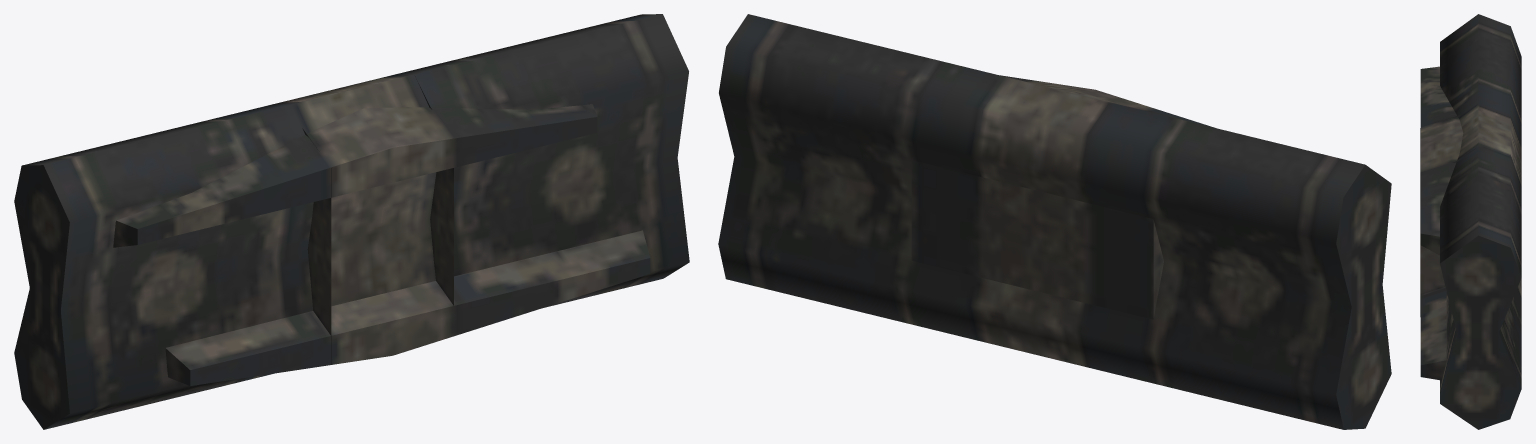
The picture shows the model from 3 angles, left to right: view 1: azimuth 30°, elevation 25°; view 2: azimuth 150°, elevation 25°; view 3: azimuth 270°, elevation 25°; orthographic projection. The views are drawn at different scales.
Parts seen in each view (by area): view 1: set_0_group_0; view 2: set_0_group_0; view 3: set_0_group_0.
Boxes of the visible parts, left/top/right/bottom form: set_0_group_0: left=14, top=14, right=689, bottom=429; set_0_group_0: left=718, top=14, right=1391, bottom=429; set_0_group_0: left=1420, top=14, right=1521, bottom=429.
Bounding box in the file's own units: 0.407 × 0.1662 × 0.0785.
Materials: 1 (1 with a texture image).
